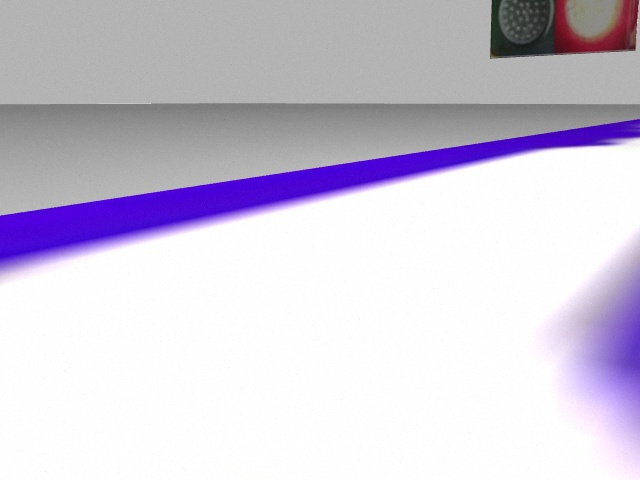red: (555, 1, 637, 52)
